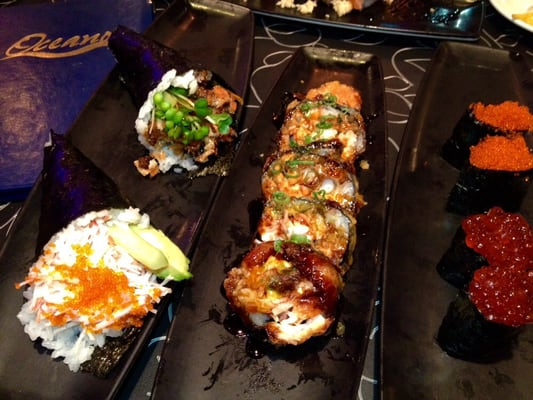sushi: (441, 100, 533, 216)
